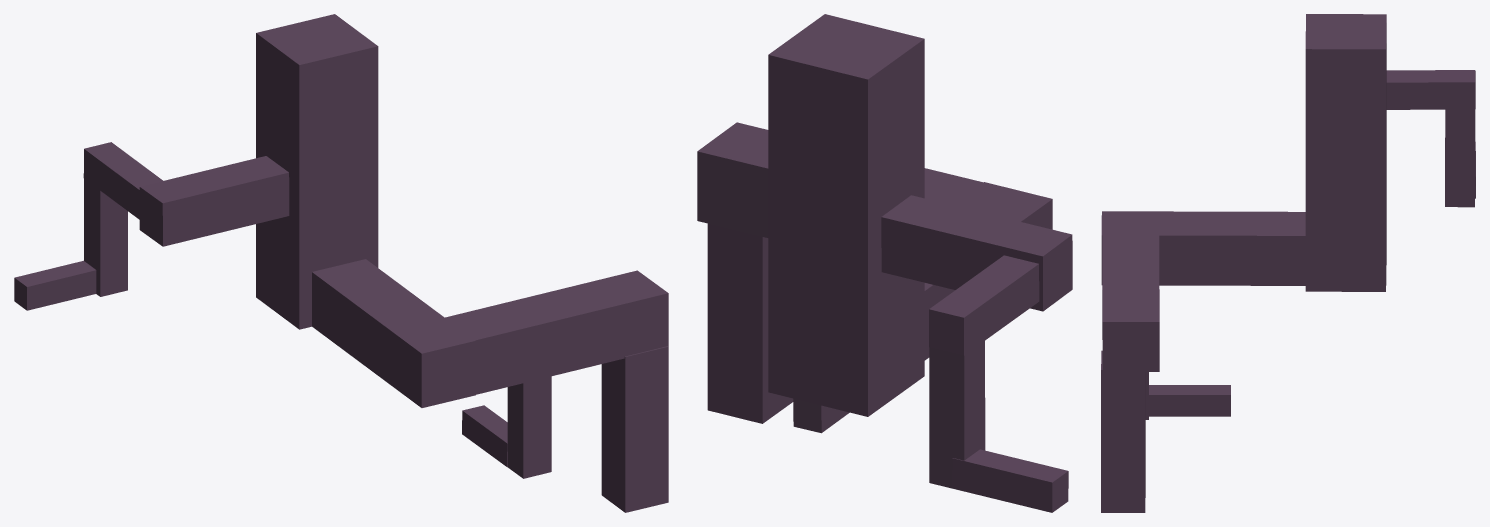
The picture shows the model from 3 angles, left to right: view 1: azimuth 30°, elevation 25°; view 2: azimuth 150°, elevation 25°; view 3: azimuth 270°, elevation 25°; orthographic projection. The views are drawn at different scales.
Parts seen in each view (by area): view 1: Cube.059, Cube.057, Cube.058, Cube.054, Cube.012, Cube.013, Cube.010, Cube.011, Cube.009, Cube.014; view 2: Cube.059, Cube.012, Cube.054, Cube.057, Cube.011, Cube.010, Cube.009, Cube.058, Cube.014; view 3: Cube.059, Cube.058, Cube.057, Cube.054, Cube.011, Cube.010, Cube.014.
Part boxes in pixels (x1,y1,x2,y2): Cube.059: (256, 14, 378, 329); Cube.057: (445, 270, 668, 394); Cube.058: (312, 259, 475, 407); Cube.054: (601, 346, 668, 512); Cube.012: (139, 156, 289, 246); Cube.013: (507, 376, 551, 478); Cube.010: (84, 179, 127, 296); Cube.011: (83, 142, 162, 219); Cube.009: (14, 260, 96, 310); Cube.014: (462, 405, 507, 467); Cube.059: (768, 14, 924, 416); Cube.012: (881, 195, 1072, 311); Cube.054: (707, 223, 793, 423); Cube.057: (697, 122, 983, 237); Cube.011: (929, 255, 1039, 355); Cube.010: (929, 341, 985, 488); Cube.009: (952, 449, 1068, 512); Cube.058: (924, 182, 1052, 360); Cube.014: (793, 398, 849, 433); Cube.059: (1305, 14, 1386, 291); Cube.058: (1101, 211, 1305, 285); Cube.057: (1102, 235, 1159, 371); Cube.054: (1101, 350, 1145, 512); Cube.011: (1386, 70, 1475, 109); Cube.010: (1445, 109, 1475, 207); Cube.014: (1149, 385, 1230, 416).
Bounding box in the file's own units: 1.51 × 1.34 × 1.18.
